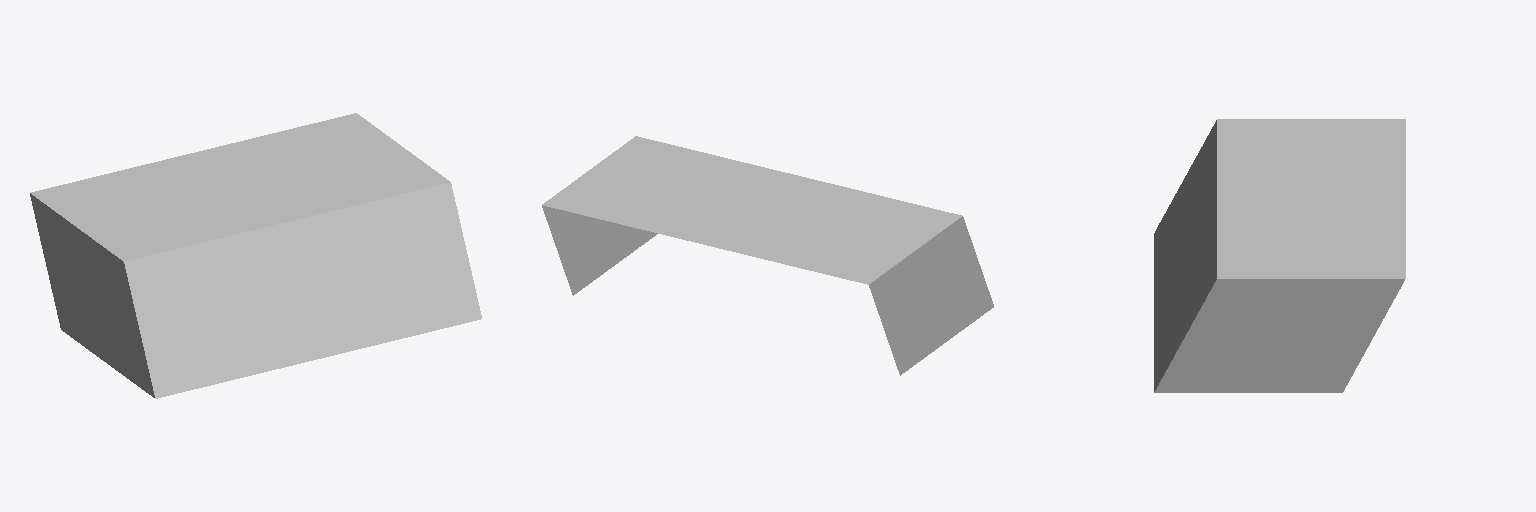
The model's file is struct_building_lab.obj.
3 views of the same model, side by side, from view 1: azimuth 30°, elevation 25°; view 2: azimuth 150°, elevation 25°; view 3: azimuth 270°, elevation 25° (orthographic).
Parts seen in each view (by area): view 1: Default; view 2: Default; view 3: Default.
Boxes of the visible parts, <box> form: Default: <box>30,113,481,398</box>; Default: <box>542,136,993,375</box>; Default: <box>1154,119,1405,392</box>.
Bounding box in the file's own units: 6 × 2 × 4.